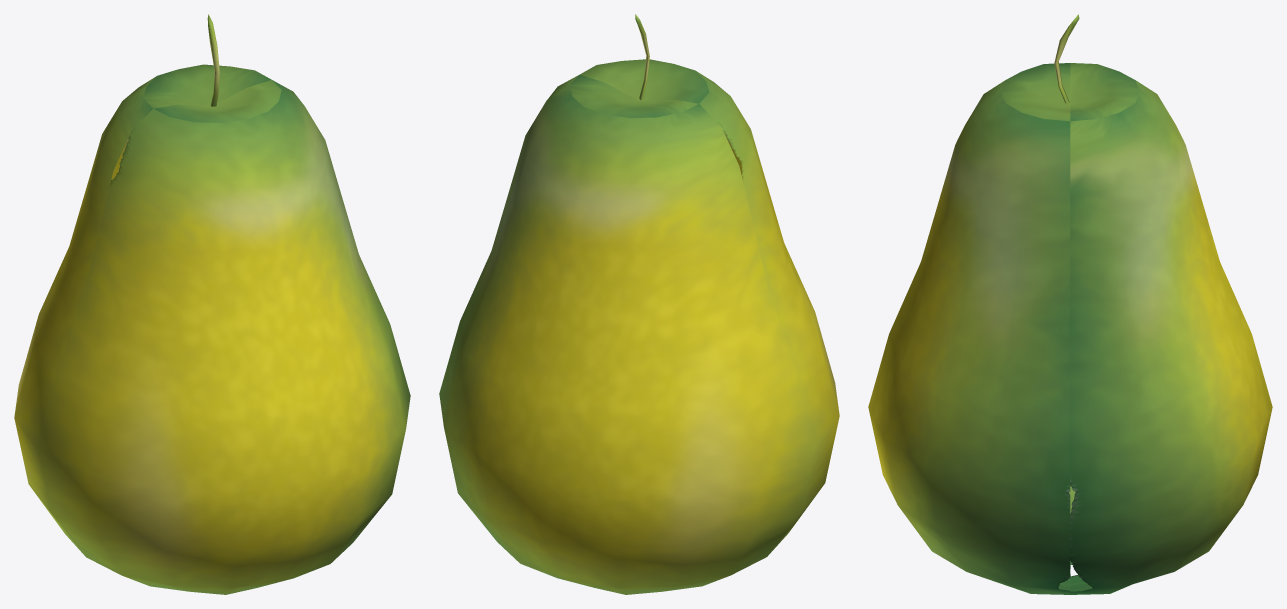
The model's file is pear.FBX.
3 views of the same model, side by side, from view 1: azimuth 30°, elevation 25°; view 2: azimuth 150°, elevation 25°; view 3: azimuth 270°, elevation 25° (orthographic).
Visible parts, largest first — view 1: pear; view 2: pear; view 3: pear.
Part boxes in pixels (x1,y1,x2,y2): pear: (14,14,410,594); pear: (439,14,839,594); pear: (868,14,1272,594).
Bounding box in the file's own units: 6.22 × 9.49 × 6.22.
